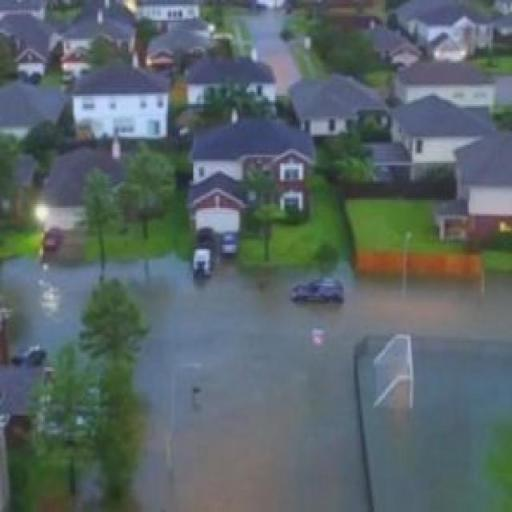flood: (107, 258, 512, 512), (0, 261, 99, 352)
house: (192, 117, 314, 234), (68, 60, 177, 144), (388, 94, 490, 166), (41, 148, 123, 225), (400, 0, 495, 56), (292, 75, 376, 135), (457, 130, 512, 217), (392, 62, 495, 106), (0, 79, 63, 142), (188, 59, 277, 103), (367, 22, 420, 67), (59, 16, 139, 44), (146, 32, 208, 61), (139, 0, 202, 23), (14, 41, 48, 81), (427, 32, 465, 63)
